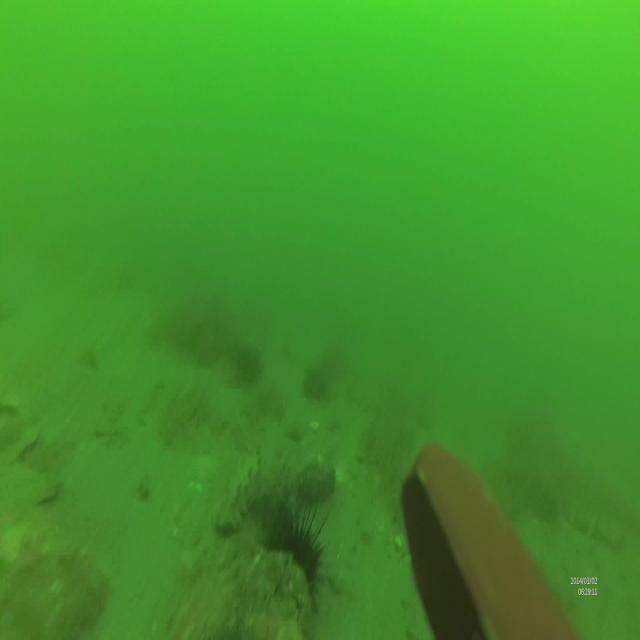echinus: (265, 505, 330, 591), (232, 339, 262, 383), (300, 367, 330, 402)
holothurian: (211, 454, 281, 531), (570, 502, 626, 552)
